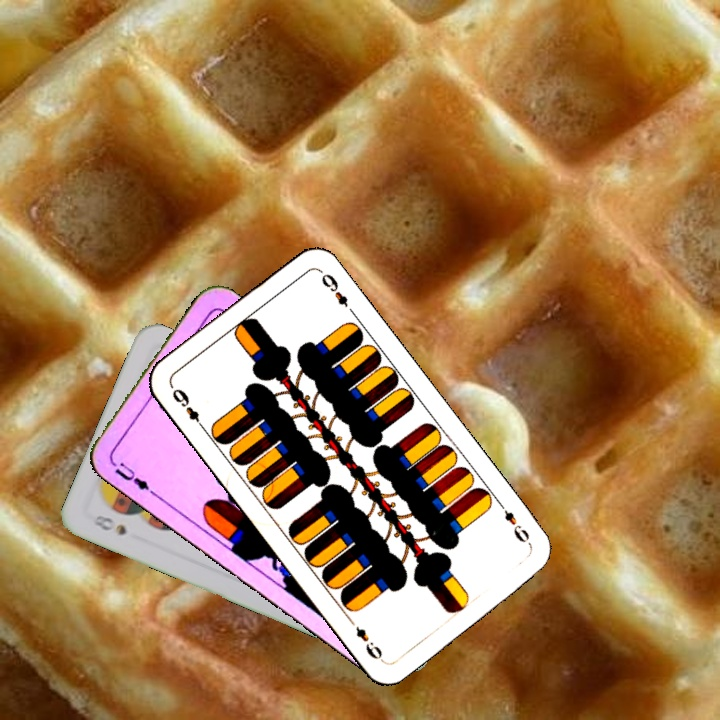E9: (494, 498, 534, 549), (167, 384, 208, 433)
EU: (106, 454, 157, 497)
S8: (88, 511, 129, 539)
